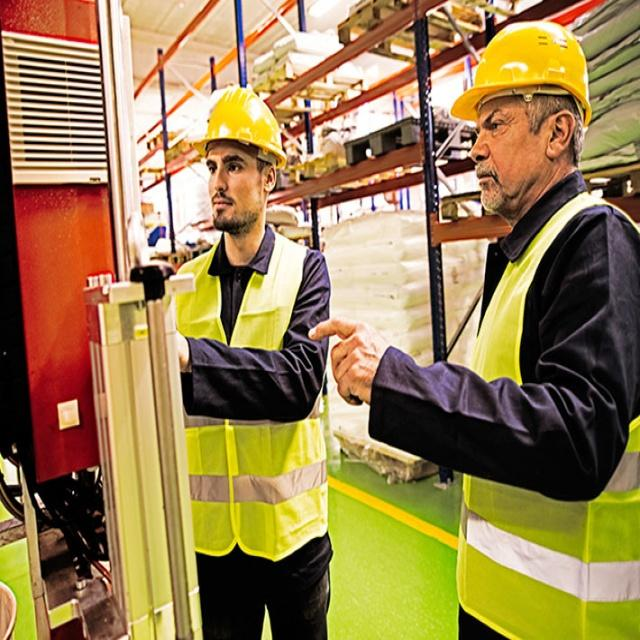helmet: (448, 24, 592, 288), (199, 115, 286, 308)
vest: (458, 272, 640, 640), (167, 311, 339, 640)
